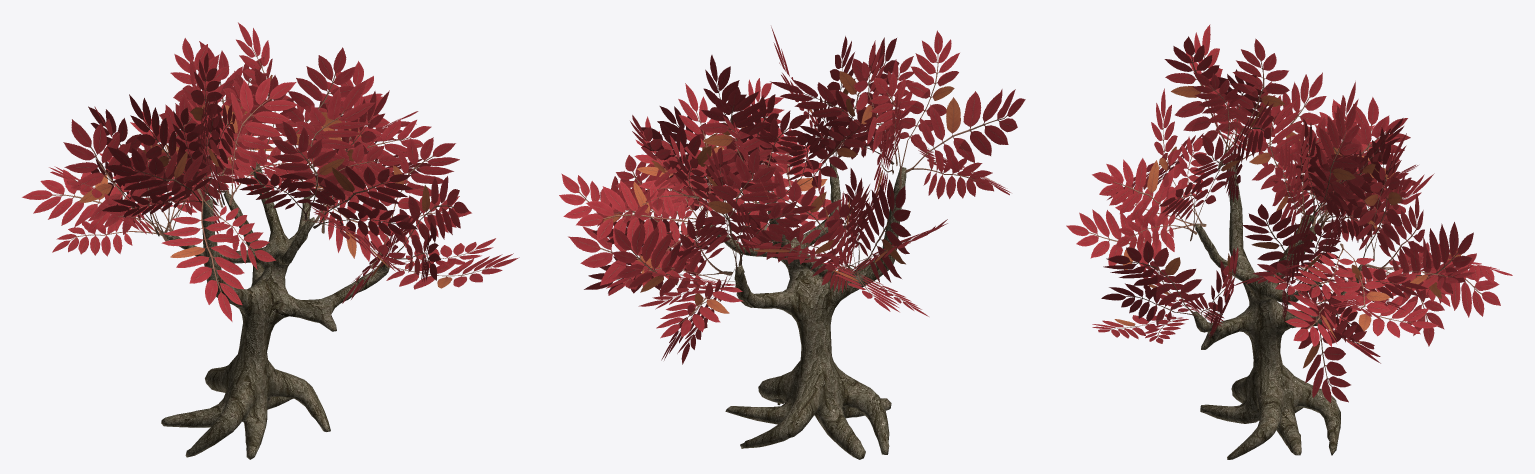
File: Tree07.glb
3 views of the same model, side by side, from view 1: azimuth 30°, elevation 25°; view 2: azimuth 150°, elevation 25°; view 3: azimuth 270°, elevation 25° (orthographic). The views are drawn at different scales.
Visible parts, largest first — view 1: tree07.LOD0; view 2: tree07.LOD0; view 3: tree07.LOD0.
Boxes of the visible parts, x1,y1,x2,y2 form: tree07.LOD0: (22, 22, 519, 459); tree07.LOD0: (559, 26, 1025, 459); tree07.LOD0: (1066, 24, 1512, 459).
Size of what is drawn, in the model's own units: 7.67 by 7.59 by 8.2.
2 materials, 2 textured.
